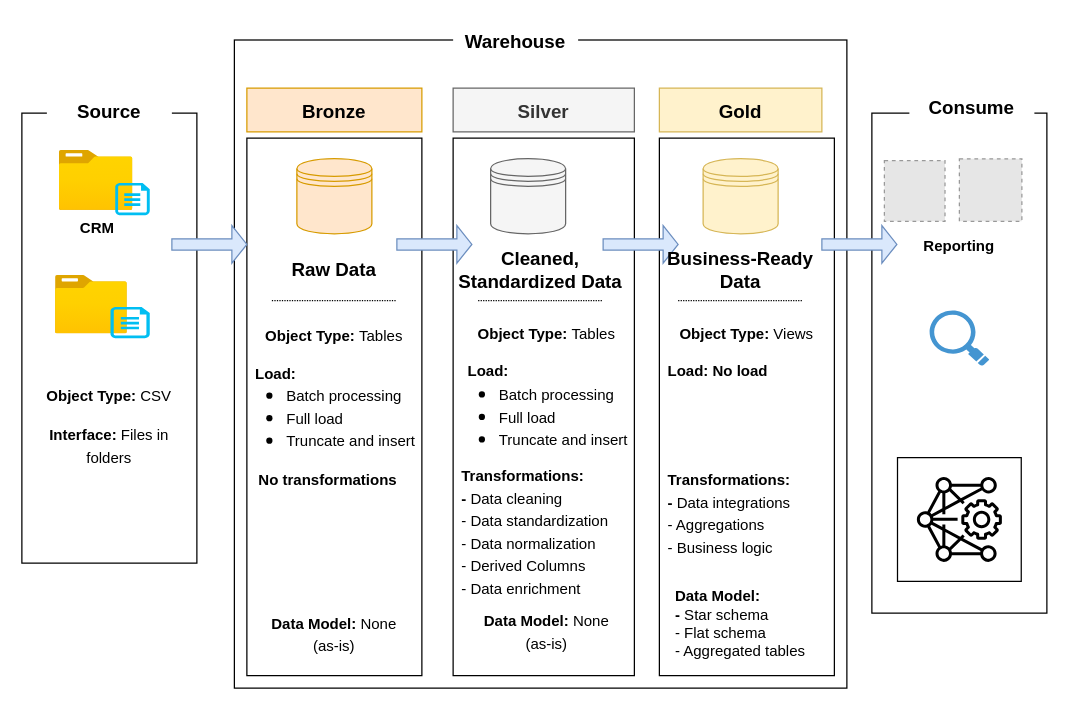
The diagram is 1069 pixels wide and 710 high, and some of its shapes have lost their labels. Grey dashed boxes stand in for pictures. Each missing label, with the centre of its shape:
"Ad-hoc SQL Queries" goes at (x=959, y=337).
"ERP" goes at (x=91, y=304).
"Machine Learning" goes at (x=959, y=519).
